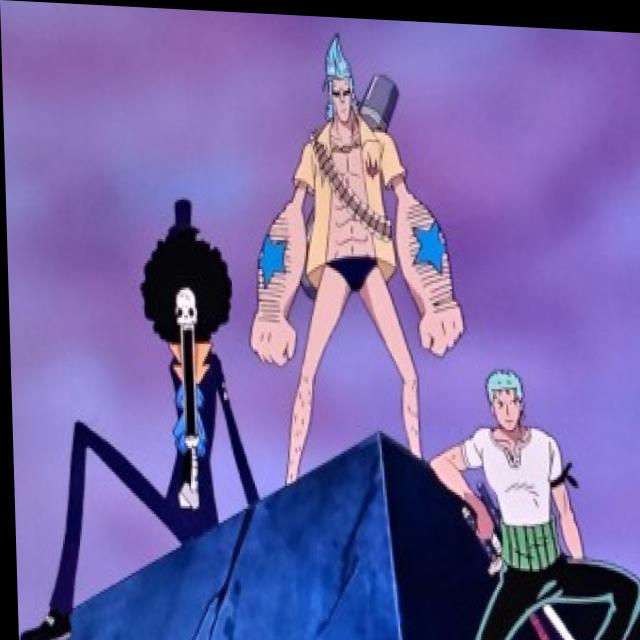Blook: (123, 174, 258, 380)
Franky: (311, 28, 365, 134)
Zoro: (475, 352, 530, 447)
